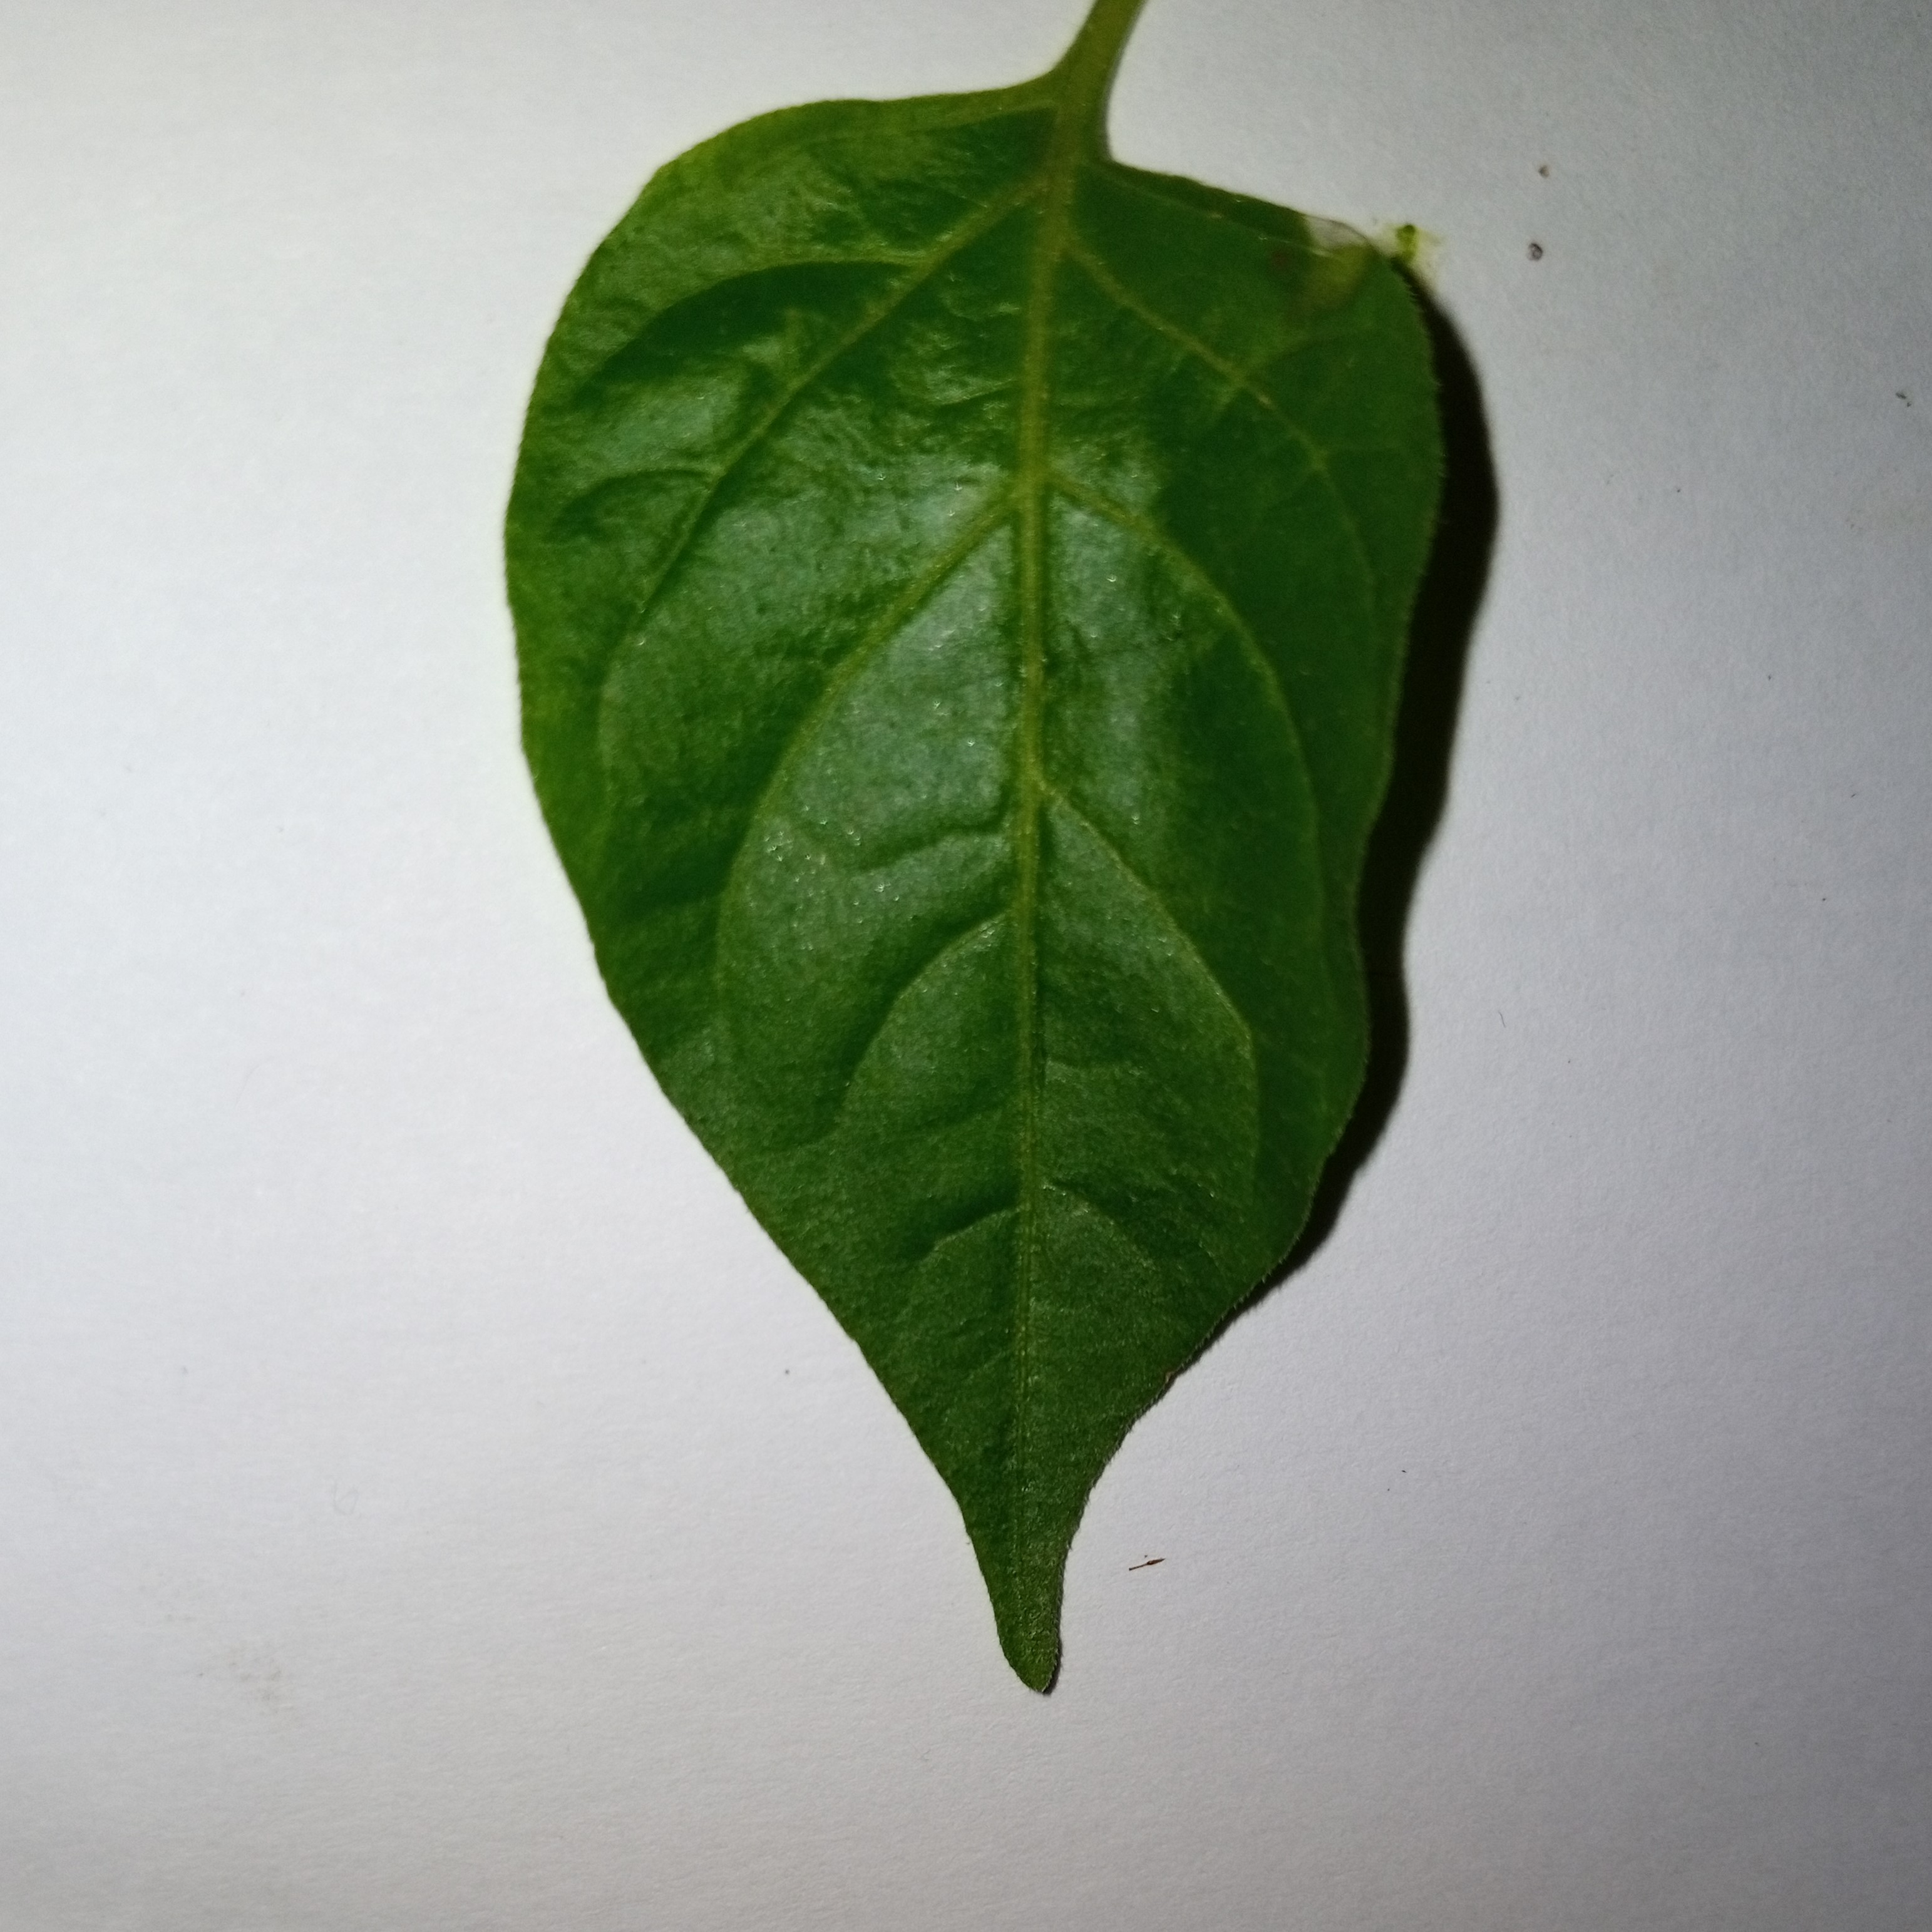Leaf: (343, 53, 1932, 1806)
